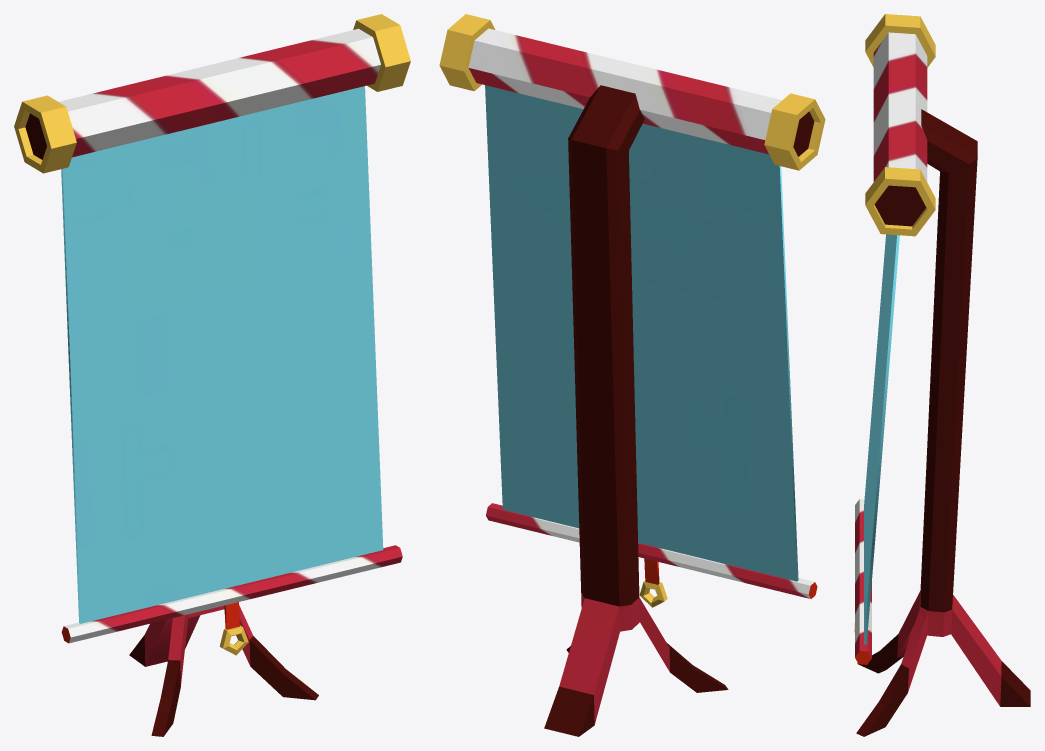
The model's file is pm-poster-roller.glb.
3 views of the same model, side by side, from view 1: azimuth 30°, elevation 25°; view 2: azimuth 150°, elevation 25°; view 3: azimuth 270°, elevation 25° (orthographic). The views are drawn at different scales.
Visible parts, largest first — view 1: PosterRoller; view 2: PosterRoller; view 3: PosterRoller.
Part boxes in pixels (x1,y1,x2,y2): PosterRoller: (14,14,410,736); PosterRoller: (439,14,825,736); PosterRoller: (854,14,1030,736).
Size of the model in its own units: 3.01 by 5.12 by 1.36.
1 material, 1 textured.
